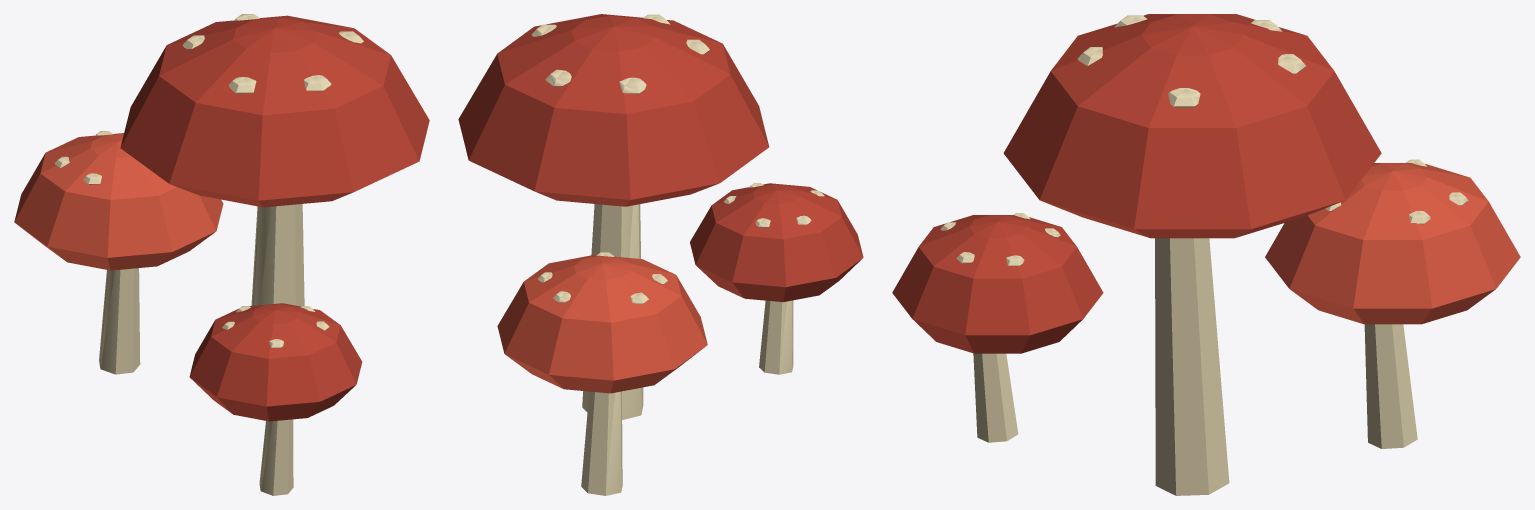
Rendered from 06_mushrooms.fbx.
The picture shows the model from 3 angles, left to right: view 1: azimuth 30°, elevation 25°; view 2: azimuth 150°, elevation 25°; view 3: azimuth 270°, elevation 25°; orthographic projection. The views are drawn at different scales.
Parts seen in each view (by area): view 1: 06_mushrooms; view 2: 06_mushrooms; view 3: 06_mushrooms.
Boxes of the visible parts, x1=… form: 06_mushrooms: x1=14, y1=14, x2=429, y2=495; 06_mushrooms: x1=458, y1=14, x2=863, y2=495; 06_mushrooms: x1=892, y1=14, x2=1520, y2=495.
Bounding box in the file's own units: 0.7221 × 0.9049 × 1.13.
1 material, 1 textured.
